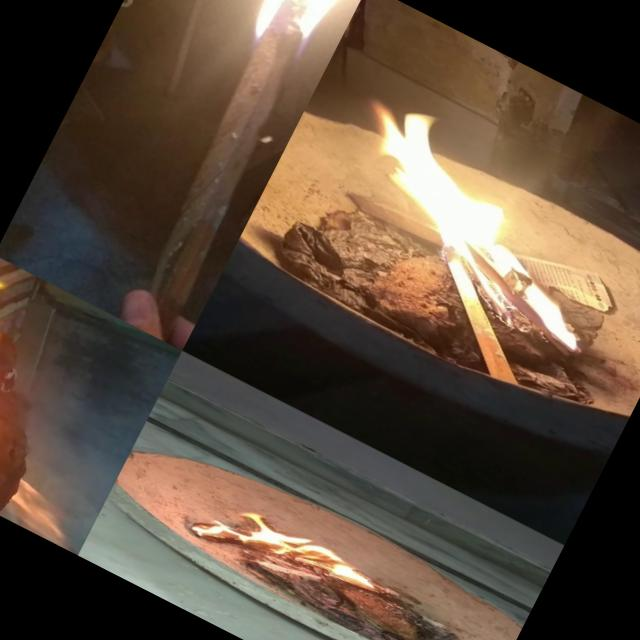fire: (302, 78, 640, 356), (176, 480, 384, 622), (201, 0, 368, 72), (81, 392, 153, 492), (130, 334, 182, 389)
smoke: (0, 293, 151, 521)
